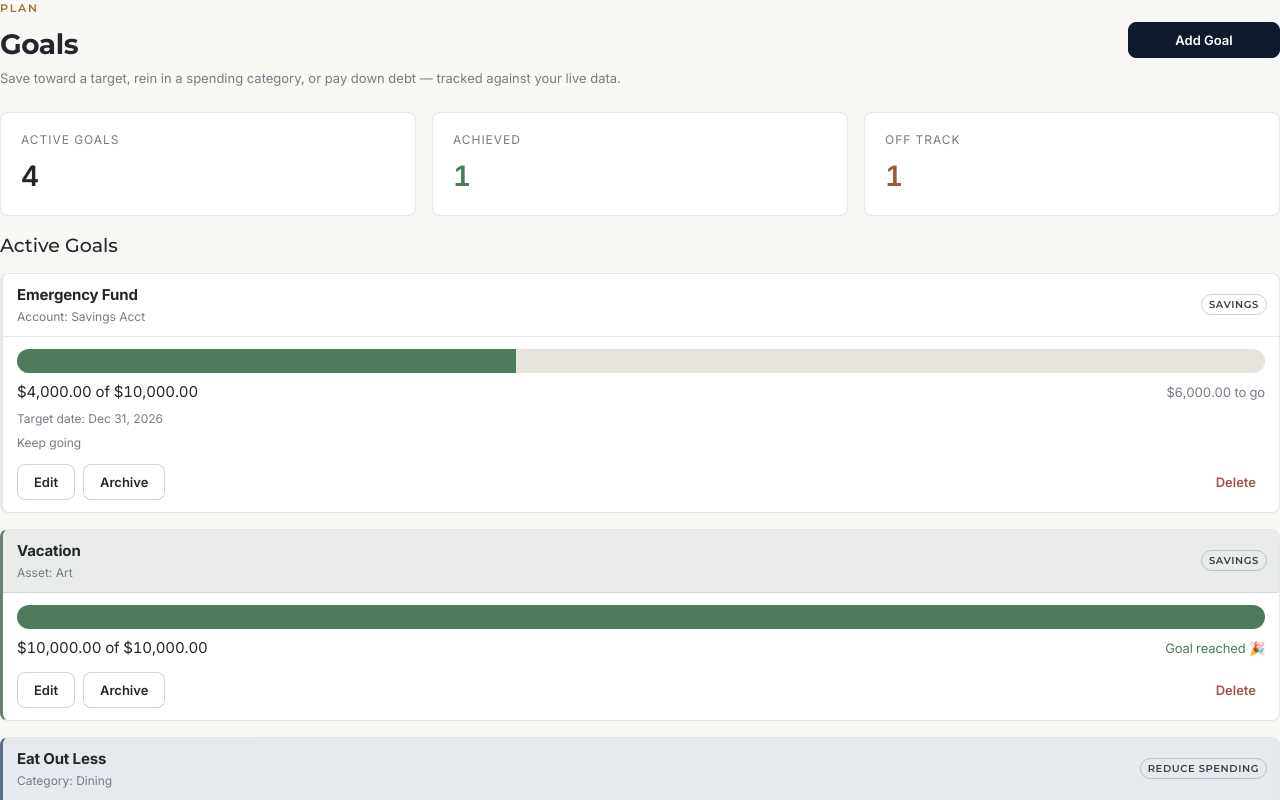
Test case: Goals page › shows a validation error when target amount is missing (savings)
Expected: the text "Emergency Fund" is shown, x1=17 y1=284 x2=145 y2=306
Click the button with class "head-add": (1204, 40) x1=1128 y1=22 x2=1279 y2=58
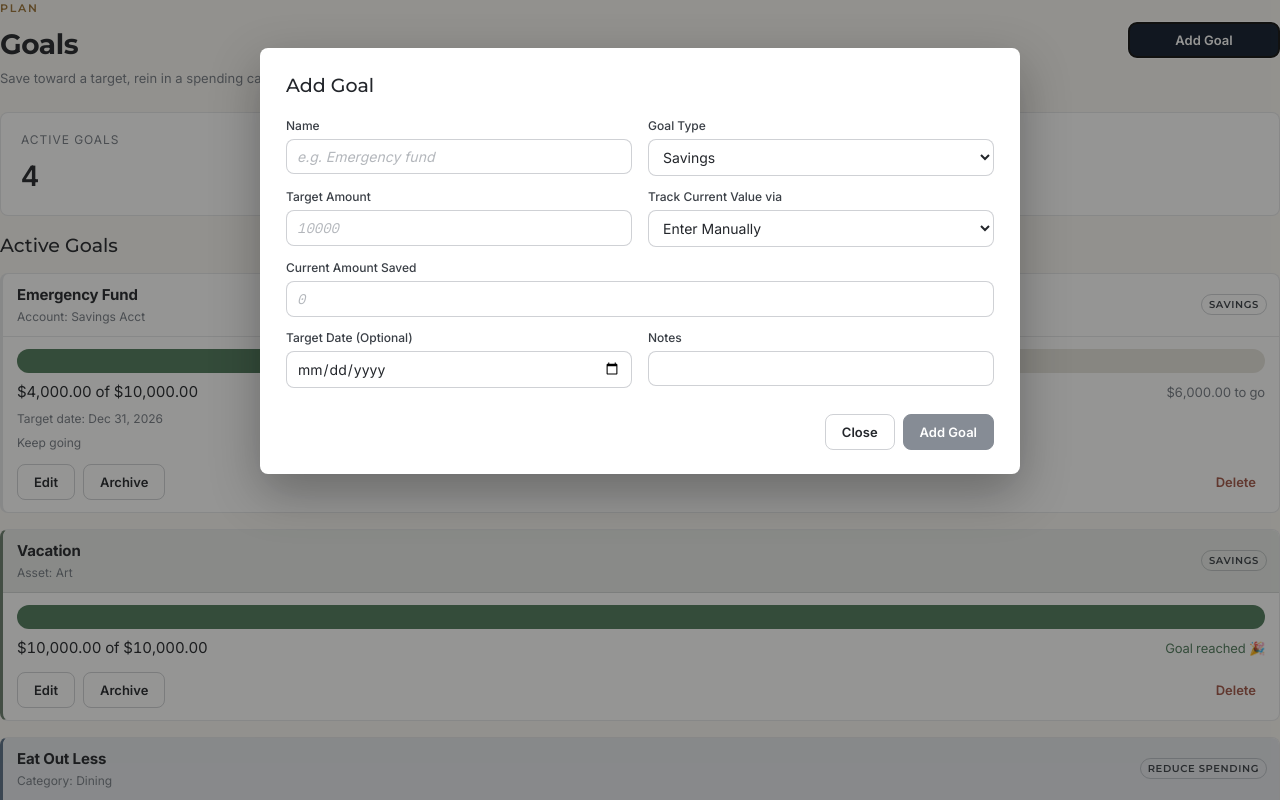
Result: the element that starts with "Add Goal" is shown
In the field with placeholder "e.g. Emergency fund": (459, 156) x1=286 y1=138 x2=632 y2=174, type "X"
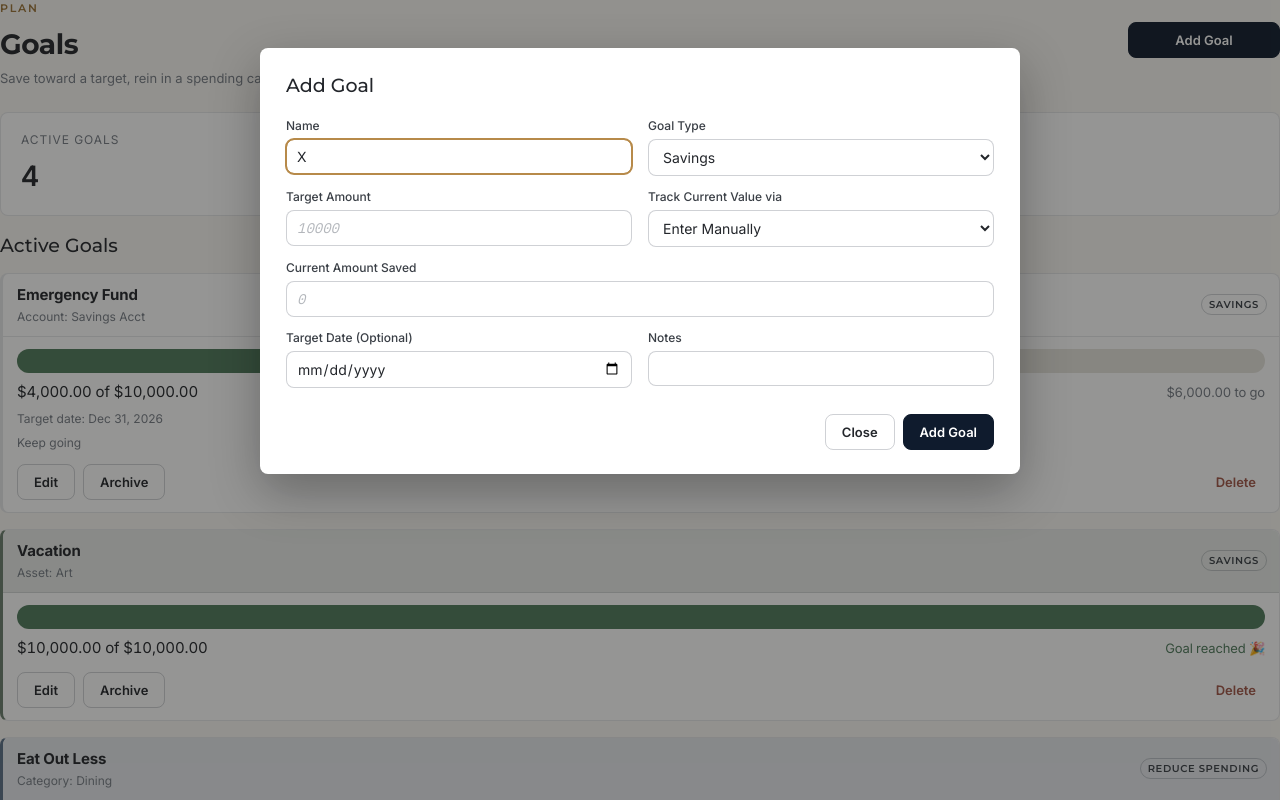
Click the button "Add Goal": (948, 432) x1=903 y1=414 x2=994 y2=450
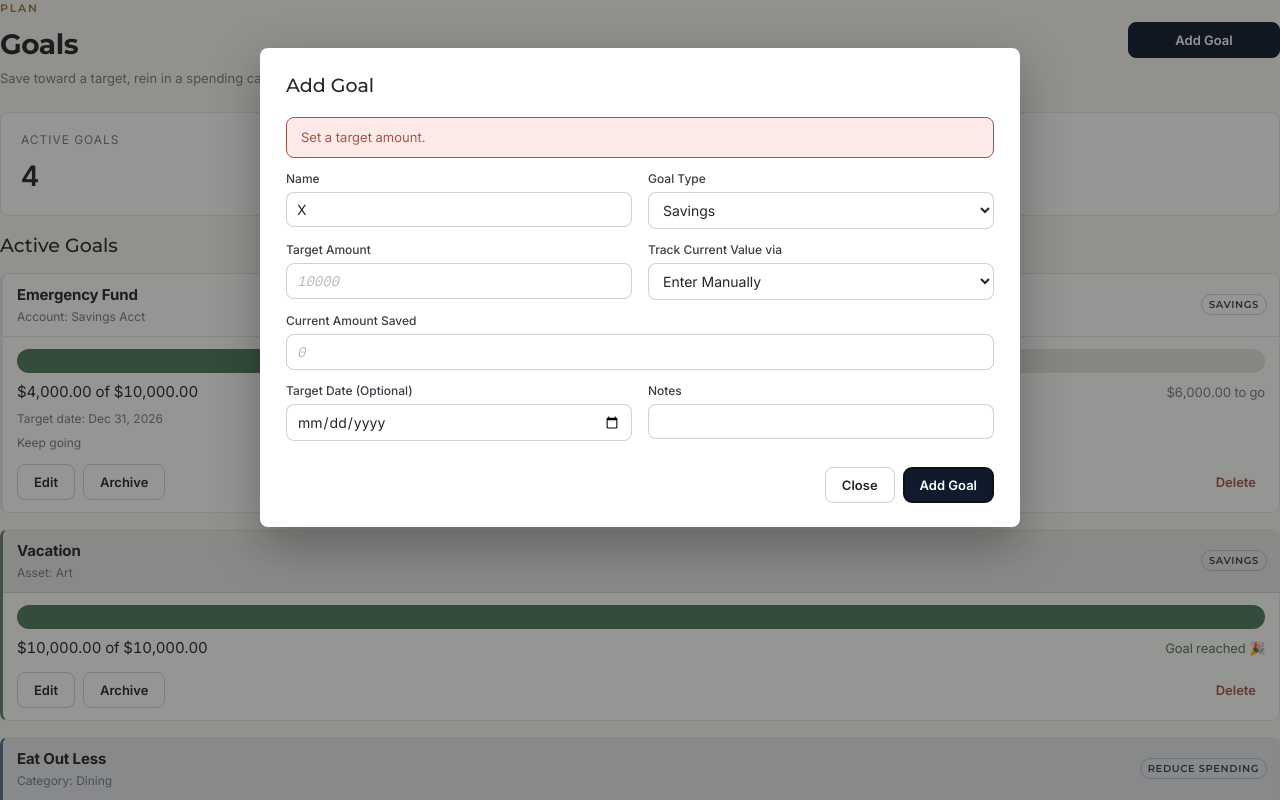
Result: the text "Set a target amount." is shown at x1=286 y1=116 x2=994 y2=158
